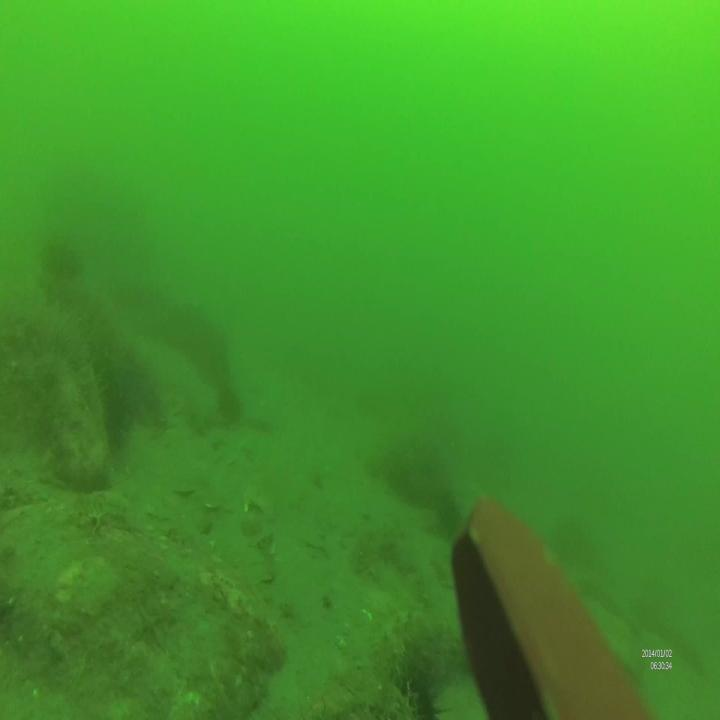echinus: (388, 664, 447, 720)
